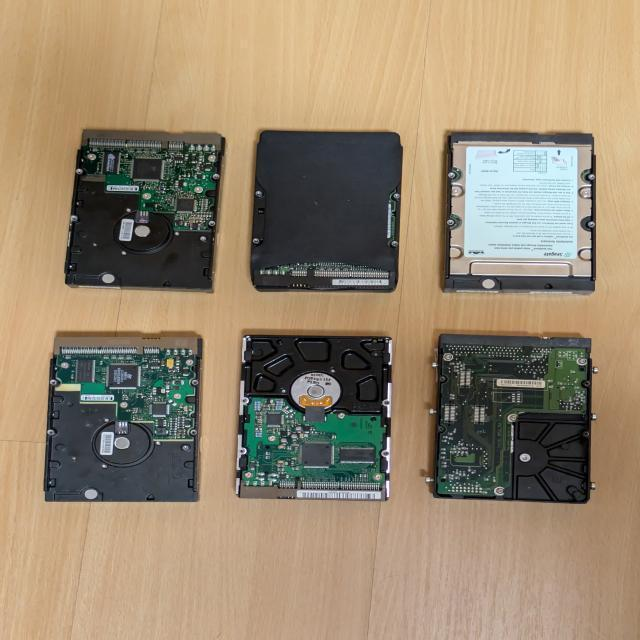DISK: (42, 336, 206, 503), (64, 128, 228, 294), (433, 333, 591, 504), (235, 334, 393, 502), (442, 132, 596, 296), (251, 130, 404, 294)
